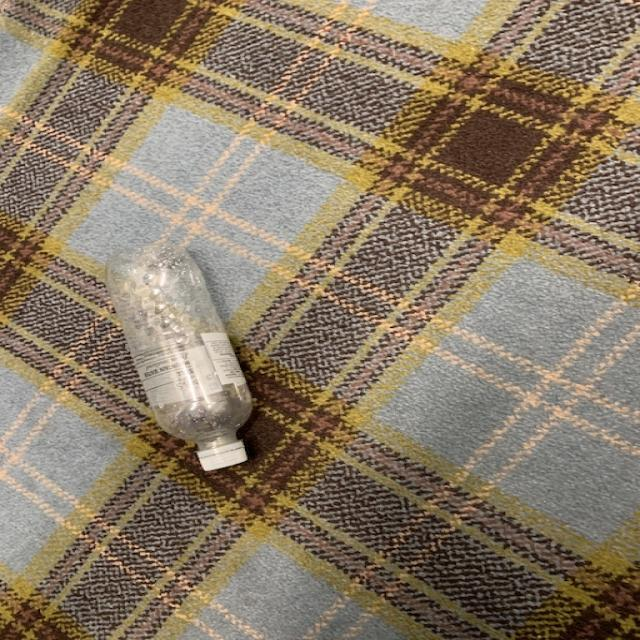Waste: (105, 245, 251, 472)
